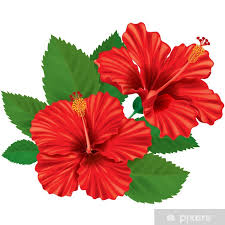hybiscus: (28, 93, 154, 205)
